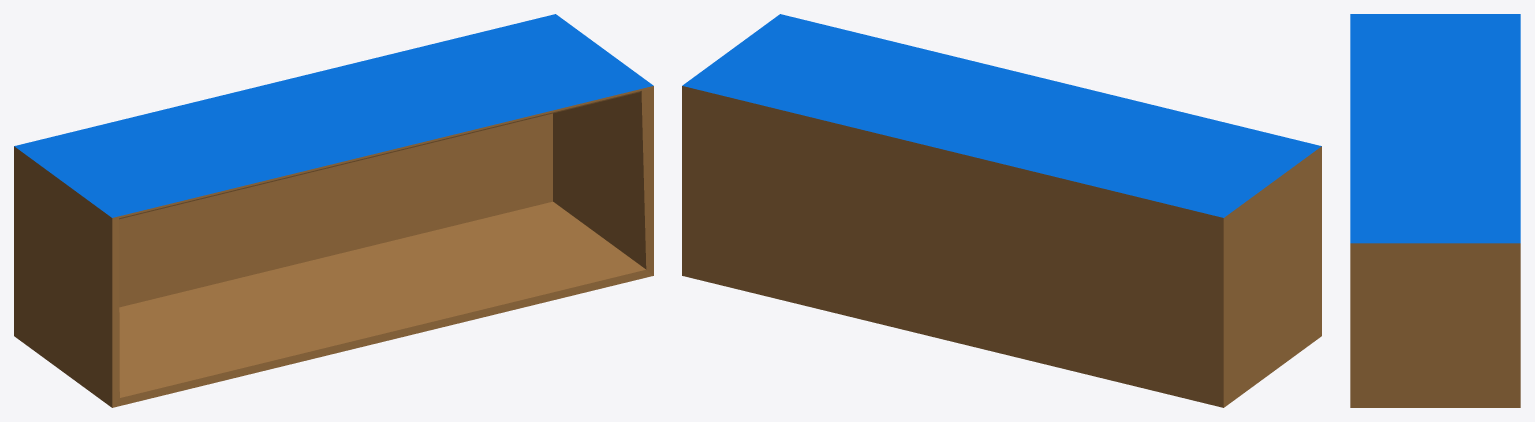
The model's file is closeBookshelf2.glb.
The picture shows the model from 3 angles, left to right: view 1: azimuth 30°, elevation 25°; view 2: azimuth 150°, elevation 25°; view 3: azimuth 270°, elevation 25°; orthographic projection. The views are drawn at different scales.
Parts seen in each view (by area): view 1: Cube; view 2: Cube; view 3: Cube.
Boxes of the visible parts, x1,y1,x2,y2 form: Cube: [14, 14, 653, 407]; Cube: [682, 14, 1321, 407]; Cube: [1350, 14, 1520, 407].
Bounding box in the file's own units: 2 × 0.6702 × 0.6275.
